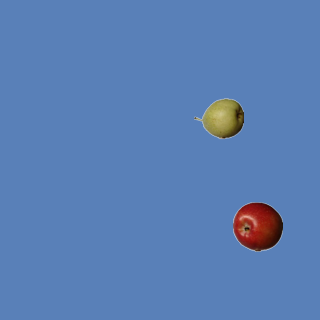Apple Braeburn: (232, 201, 282, 251)
Pear: (193, 93, 243, 143)
